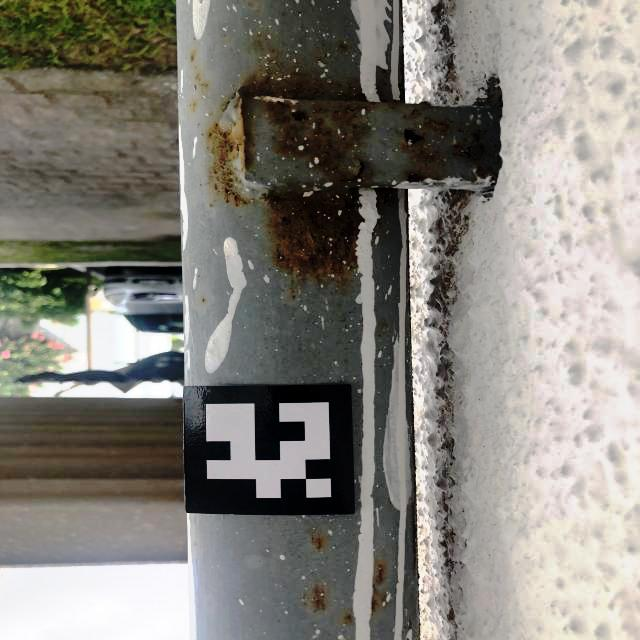Corrosion: (265, 187, 365, 286), (266, 100, 378, 184), (205, 98, 253, 209), (243, 72, 368, 102), (404, 142, 442, 179), (453, 128, 484, 162), (371, 564, 385, 613), (301, 587, 327, 609), (409, 503, 416, 570), (376, 69, 390, 102), (403, 128, 426, 147), (423, 118, 454, 132), (473, 166, 497, 179), (194, 72, 209, 91), (405, 173, 423, 183), (311, 536, 323, 550), (222, 100, 232, 112), (375, 222, 383, 232), (410, 110, 419, 118), (345, 614, 352, 623), (340, 44, 346, 50), (193, 102, 197, 111), (190, 54, 194, 62), (292, 294, 296, 299), (202, 298, 206, 302)
